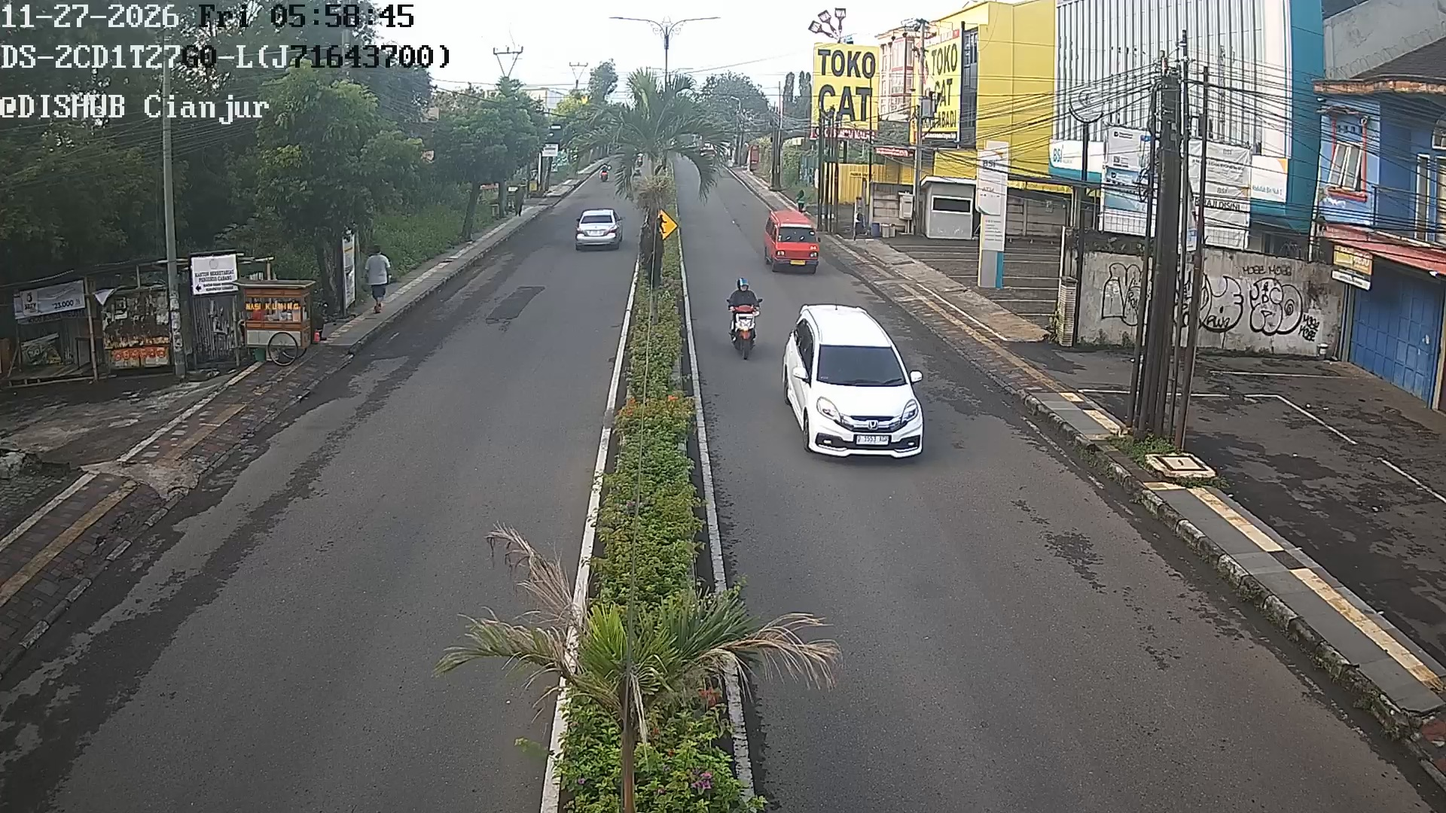Gerobak: (236, 279, 317, 364)
